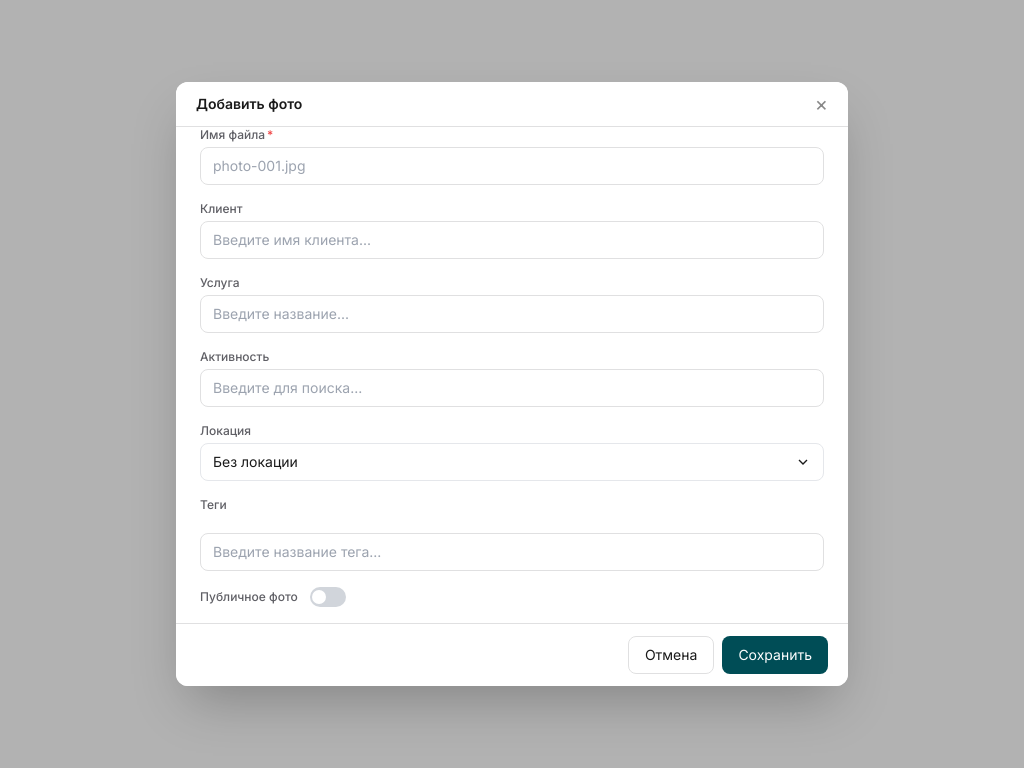
PhotoModal — Локация Combobox (GH #214 row 9) › filters location options by a name fragment (non-matching hidden)
This screenshot has width=1024, height=768.
Step 1. Click the button with test id "combobox-trigger" → (255, 462), box 200,443 -> 824,481
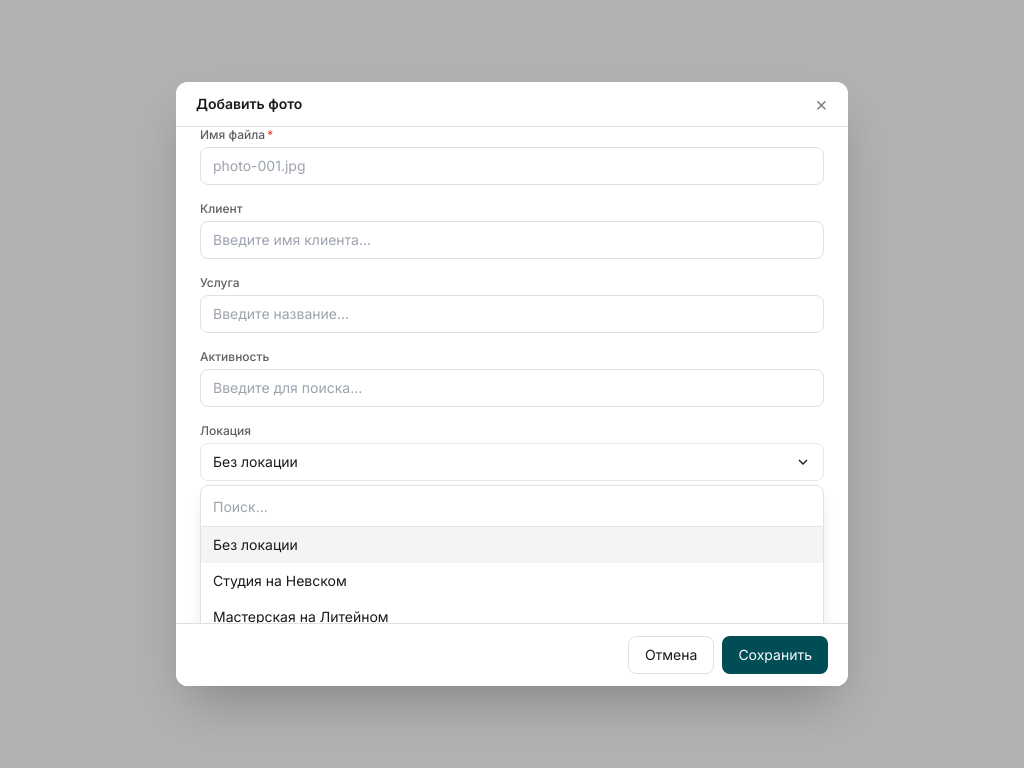
expect the option with test id "combobox-option-loc-1" is shown: met, box 201,563 -> 823,599
Note: Fragment of «Студия на Невском» — haystack includes short_title (§6.2).
Step 2. Type "невск" into the dropdown with test id "combobox-search" → (512, 507), box 213,497 -> 811,517
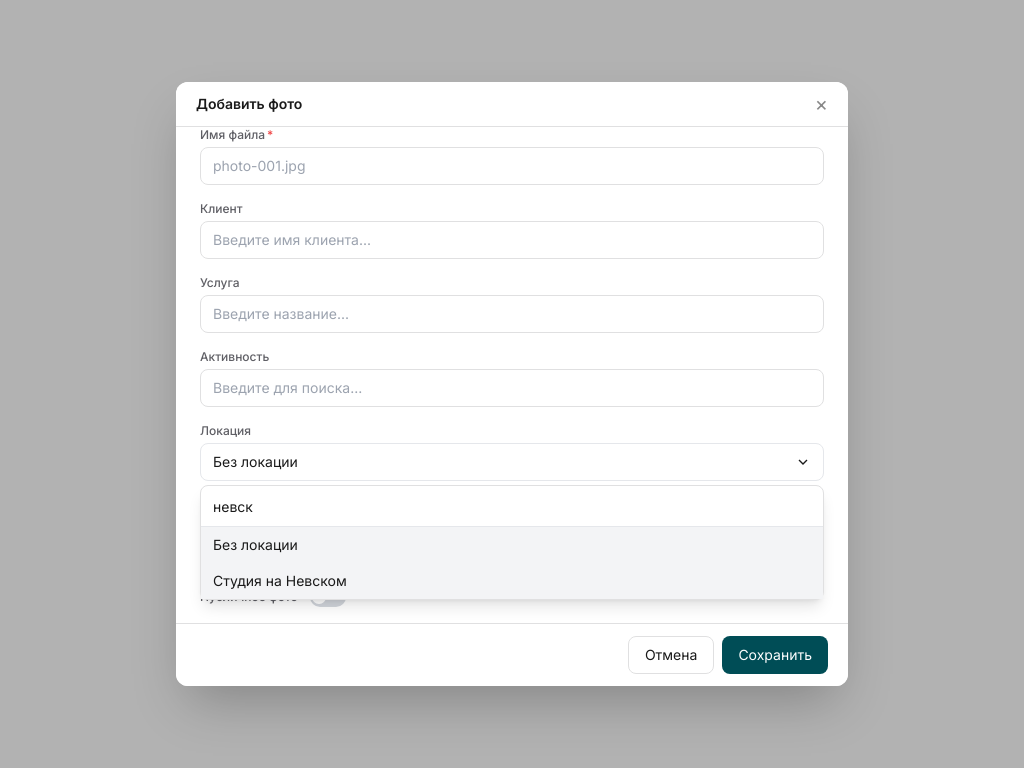
expect the option with test id "combobox-option-loc-1" is shown: met, box 201,563 -> 823,599
expect the option with test id "combobox-option-loc-2" is gone: met
